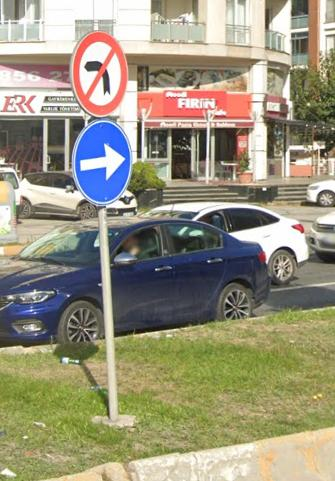leftturnsareforbidden: (74, 32, 130, 114)
turnright: (75, 123, 130, 201)
